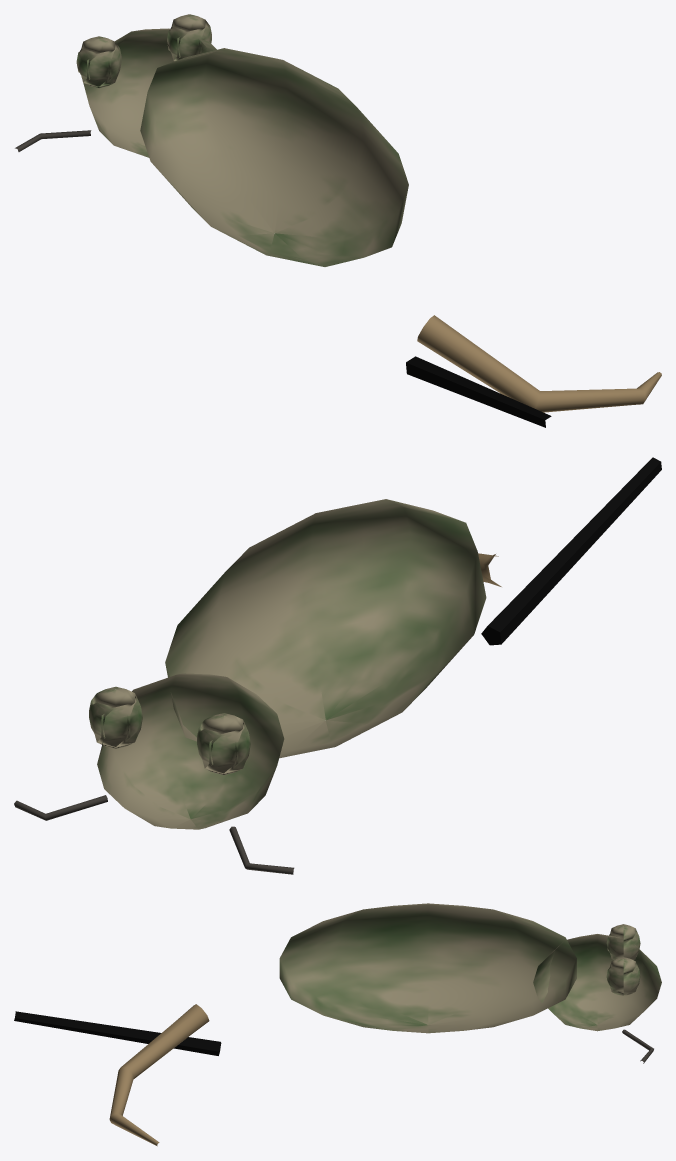
Rendered from dead_rat.glb.
3 renders of one model, top to bottom at view 1: azimuth 30°, elevation 25°; view 2: azimuth 150°, elevation 25°; view 3: azimuth 270°, elevation 25°, orthographic. The views are drawn at different scales.
Parts seen in each view (by area): view 1: Body, Art_FadedThread, Head, Tail, Ear0, Ear0_2; view 2: Body, Head, Tail, Ear0_2, Ear0, Art_SootIron; view 3: Body, Head, Art_FadedThread, Tail, Ear0_2, Ear0.
Part boxes in pixels (bbox=[...]): Body: bbox=[140, 48, 408, 266]; Art_FadedThread: bbox=[417, 315, 661, 412]; Head: bbox=[83, 28, 216, 157]; Tail: bbox=[406, 356, 551, 427]; Ear0: bbox=[76, 36, 121, 88]; Ear0_2: bbox=[167, 14, 211, 61]; Body: bbox=[165, 499, 486, 758]; Head: bbox=[97, 673, 284, 829]; Tail: bbox=[481, 457, 661, 645]; Ear0_2: bbox=[89, 686, 142, 748]; Ear0: bbox=[197, 713, 250, 775]; Art_SootIron: bbox=[14, 795, 294, 874]; Body: bbox=[279, 903, 576, 1033]; Head: bbox=[533, 934, 661, 1031]; Art_FadedThread: bbox=[109, 1004, 209, 1146]; Tail: bbox=[14, 1011, 221, 1055]; Ear0_2: bbox=[606, 957, 640, 995]; Ear0: bbox=[606, 924, 640, 959].
Bounding box in the file's own units: 0.2148 × 0.1357 × 0.4977.
4 materials, 2 textured.
